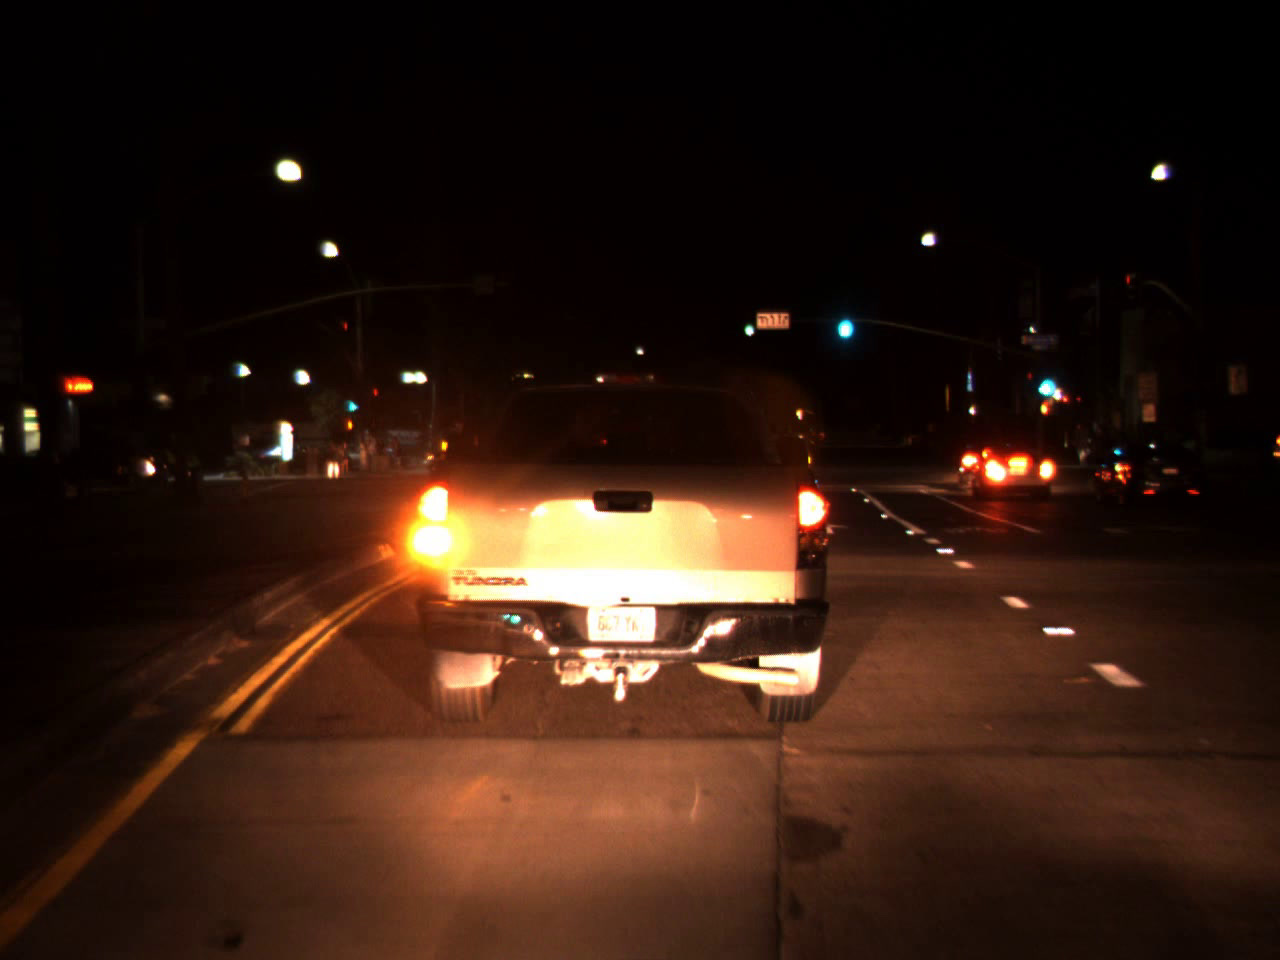go: (1030, 358, 1060, 403), (831, 298, 855, 343), (339, 382, 360, 418), (741, 314, 755, 338)
